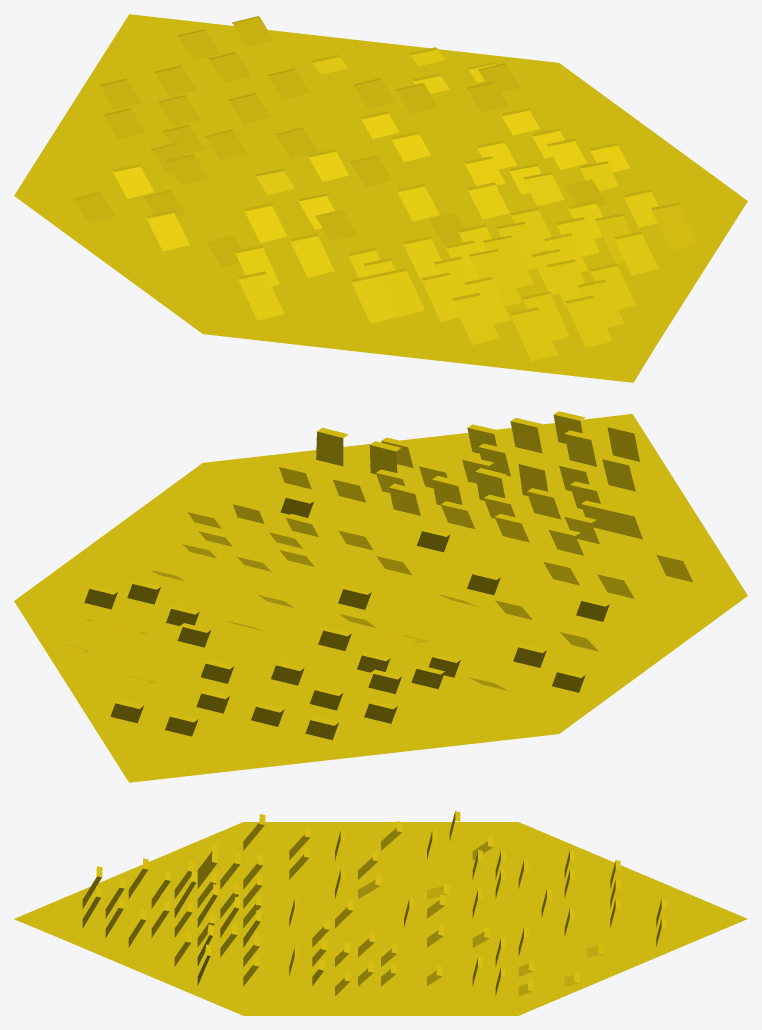
The model's file is grain.fbx.
The picture shows the model from 3 angles, top to bottom: view 1: azimuth 30°, elevation 25°; view 2: azimuth 150°, elevation 25°; view 3: azimuth 270°, elevation 25°; orthographic projection. The views are drawn at different scales.
Parts seen in each view (by area): view 1: Plane; view 2: Plane; view 3: Plane.
Part boxes in pixels (left/top/right/bottom): Plane: left=14, top=14, right=747, bottom=382; Plane: left=14, top=411, right=747, bottom=782; Plane: left=14, top=811, right=747, bottom=1015.
Size of the model in its own units: 1.25 by 0.127 by 2.
